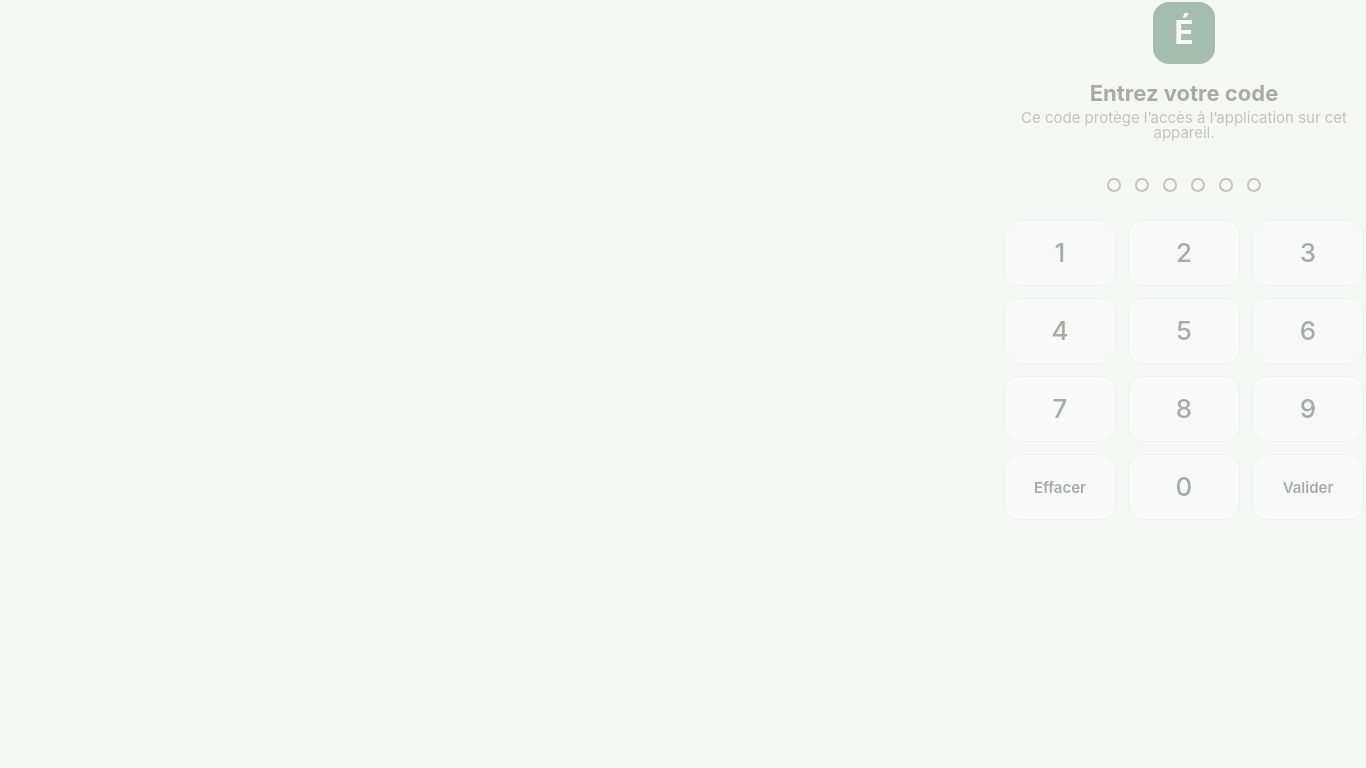
it: lancements suivants › ouvre l application avec le bon code
Expected: the heading "Entrez votre code" is shown, [1090,80,1278,106]
Click the button "4" at (1060, 331), box [1004,298,1116,364]
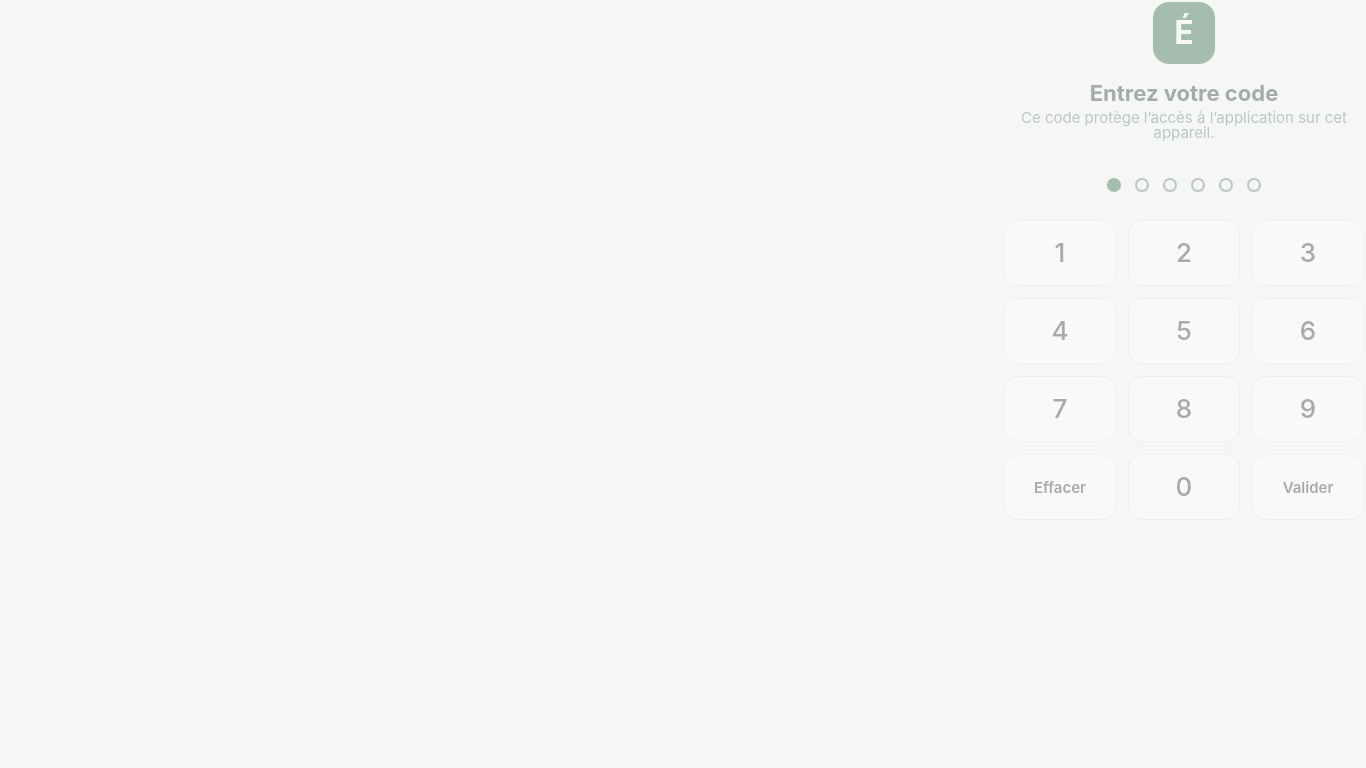
Click the button "2" at (1184, 253), box [1128,220,1240,286]
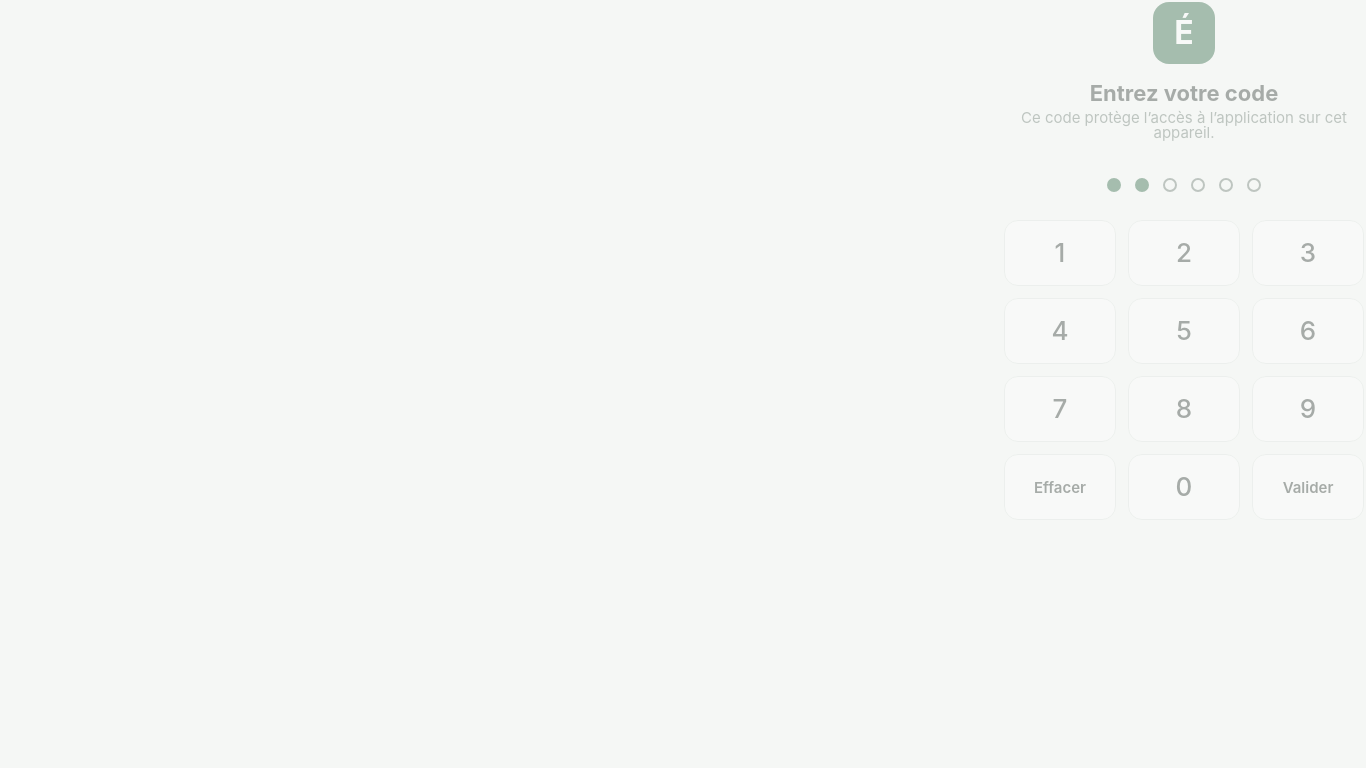
Click the button "4" at (1060, 331), box [1004,298,1116,364]
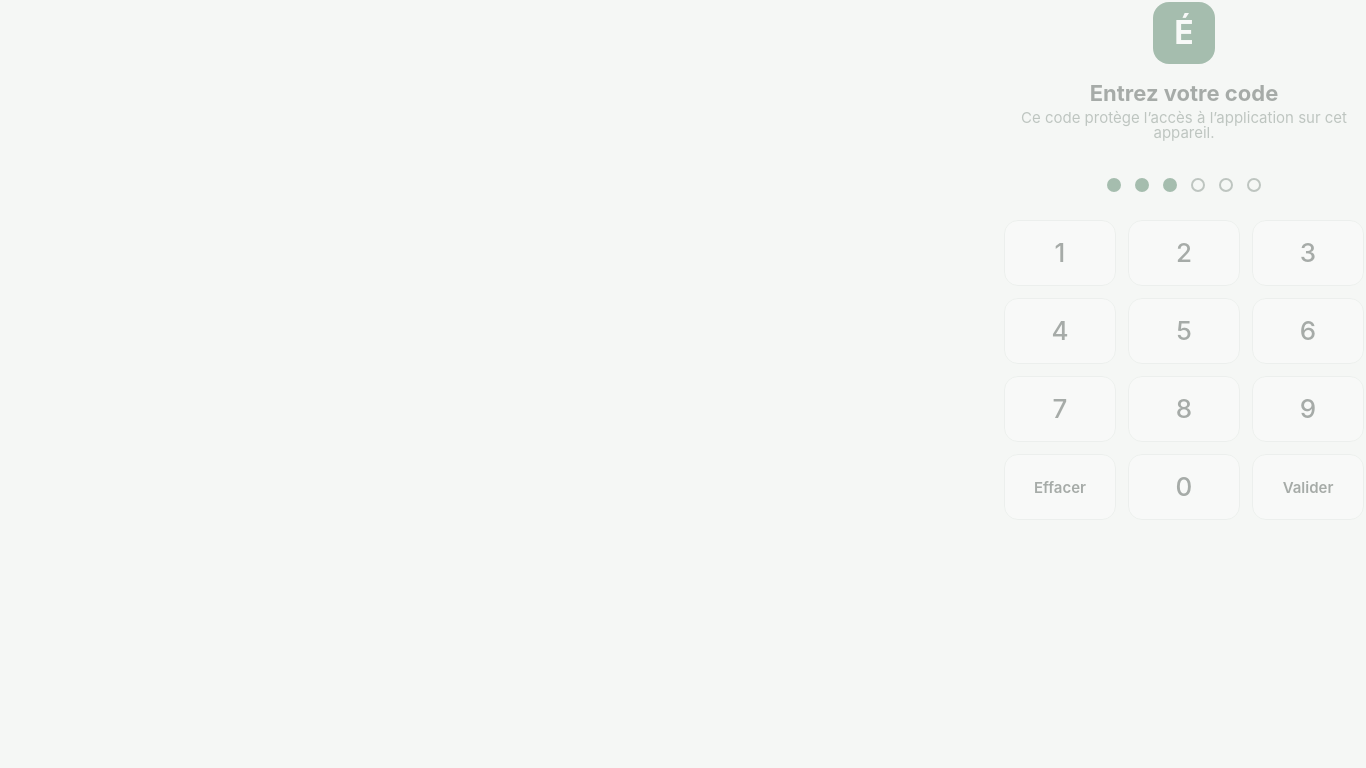
Click the button "2" at (1184, 253), box [1128,220,1240,286]
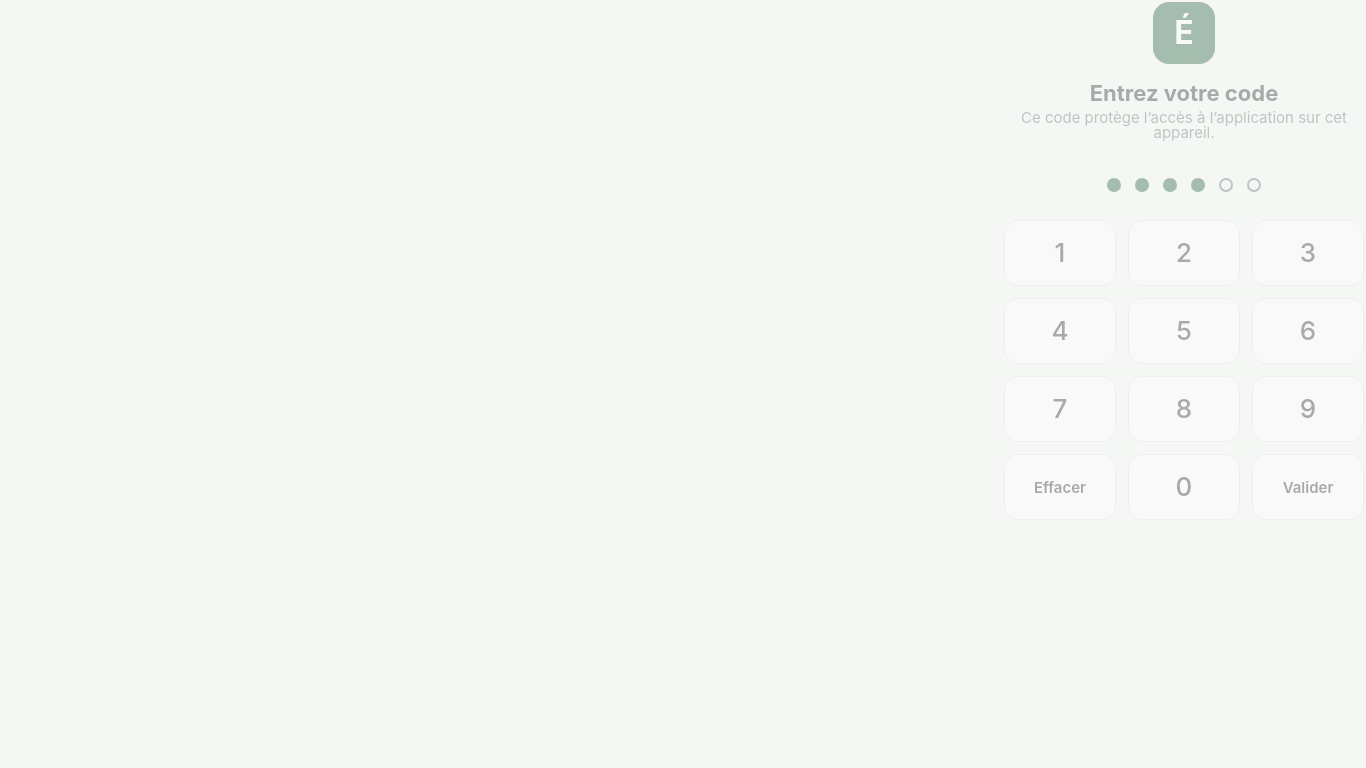
Click the button "Valider" at (1308, 487), box [1252,454,1364,520]
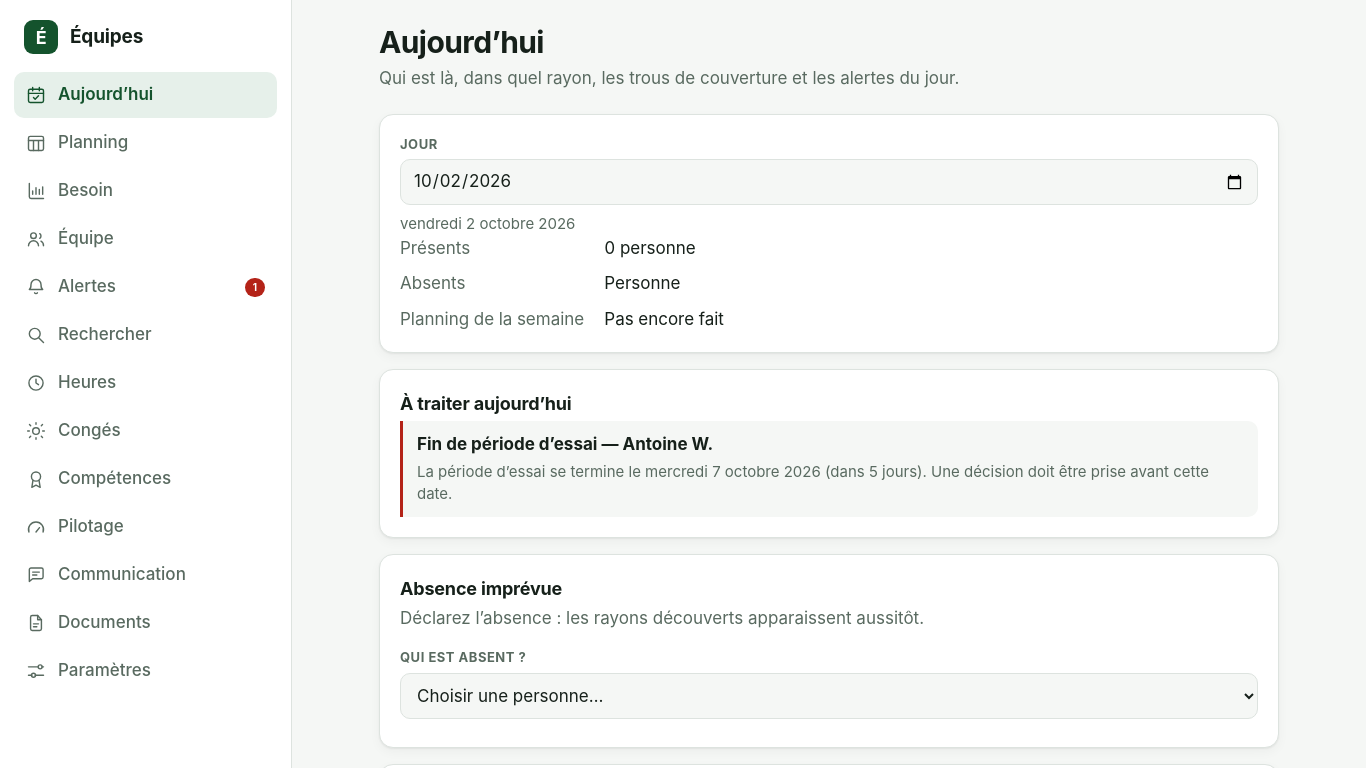
Expected: the navigation bar is shown, [0,0,292,767]
